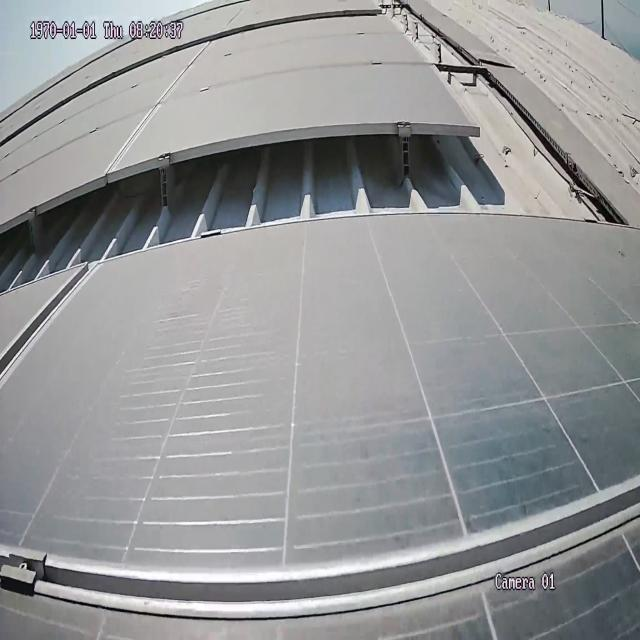interior panel: (0, 460, 630, 619), (108, 49, 213, 165), (0, 283, 84, 389)
outher panel: (0, 1, 640, 293)
